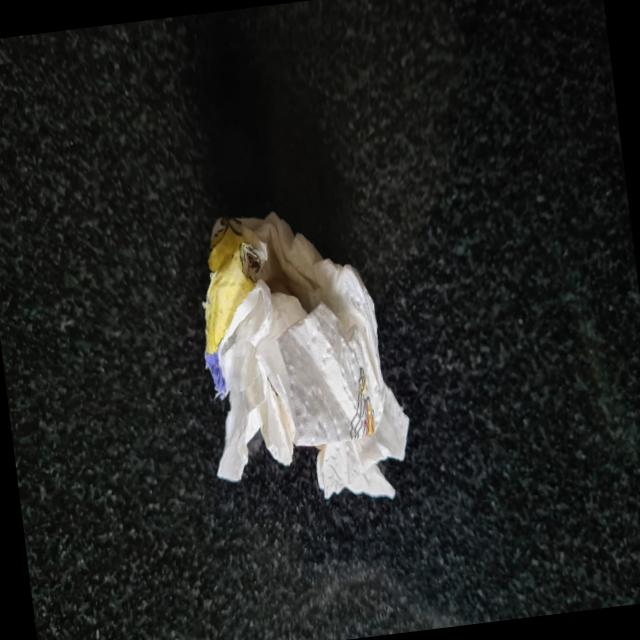organic waste: (176, 177, 420, 536)
